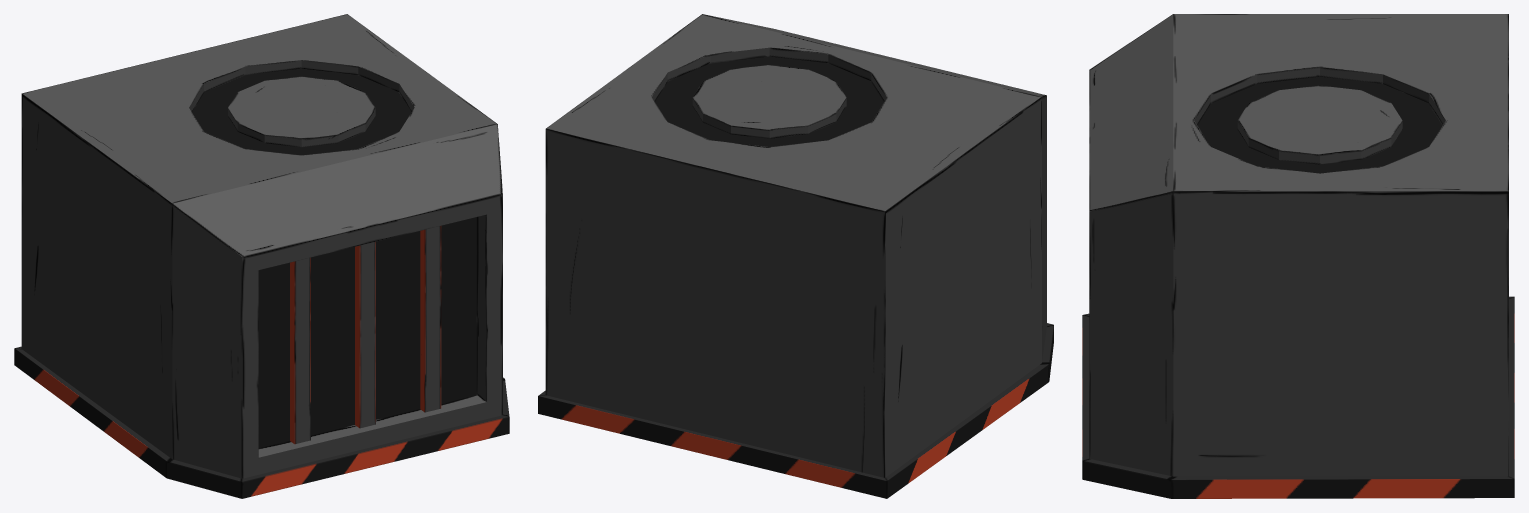
Rendered from aircon.fbx.
The picture shows the model from 3 angles, left to right: view 1: azimuth 30°, elevation 25°; view 2: azimuth 150°, elevation 25°; view 3: azimuth 270°, elevation 25°; orthographic projection. The views are drawn at different scales.
Parts seen in each view (by area): view 1: aircon; view 2: aircon; view 3: aircon.
Boxes of the visible parts, x1,y1,x2,y2 form: aircon: (14,14,509,498); aircon: (538,14,1053,498); aircon: (1082,14,1514,498).
Bounding box in the file's own units: 104 × 80 × 103.
